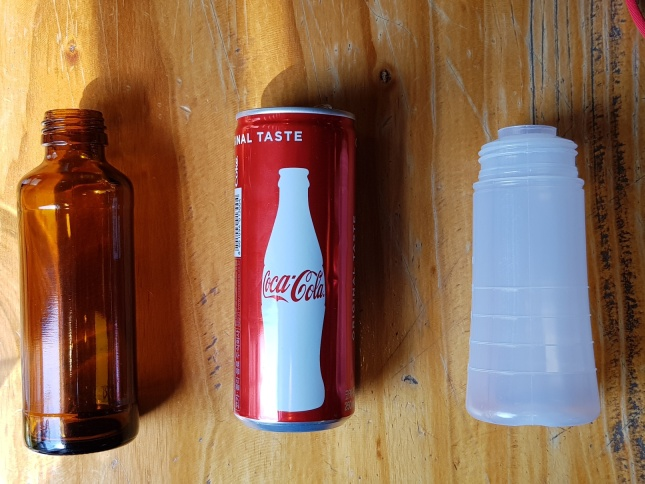Can: (227, 105, 361, 436)
Glass: (14, 101, 141, 459)
Plastic: (457, 118, 606, 431)
